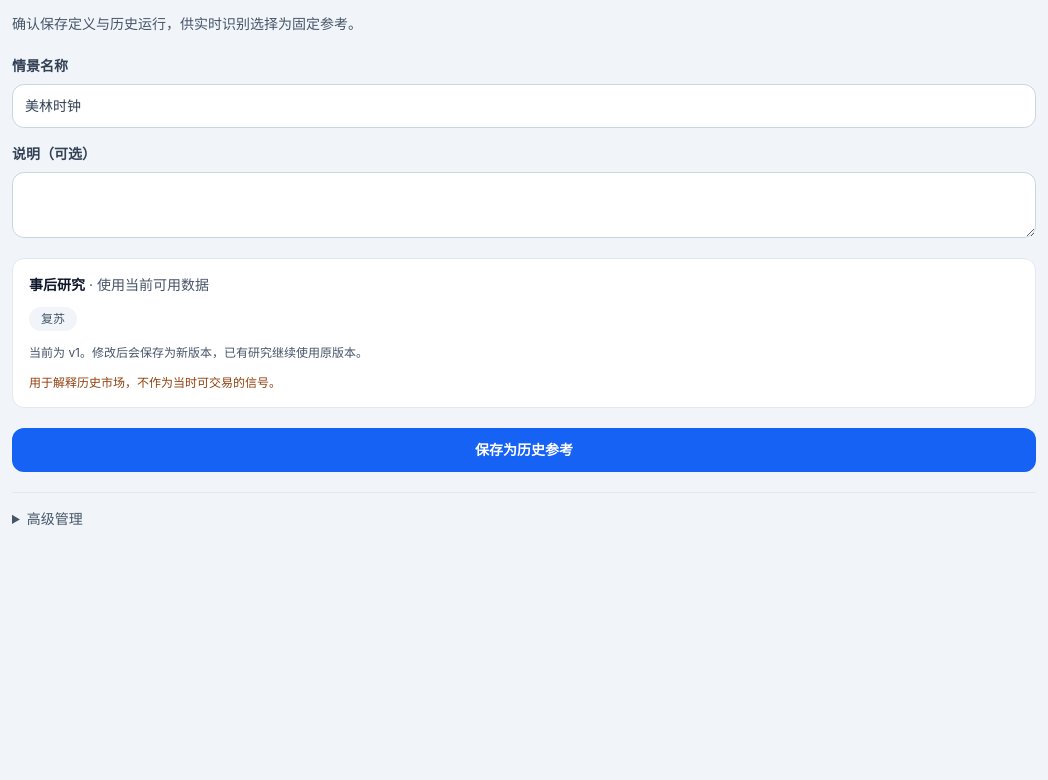
Test: 历史参考确认复用原研究发布路径，不另建存储
Click the button "保存为历史参考" at (524, 450), box [12,428,1036,472]
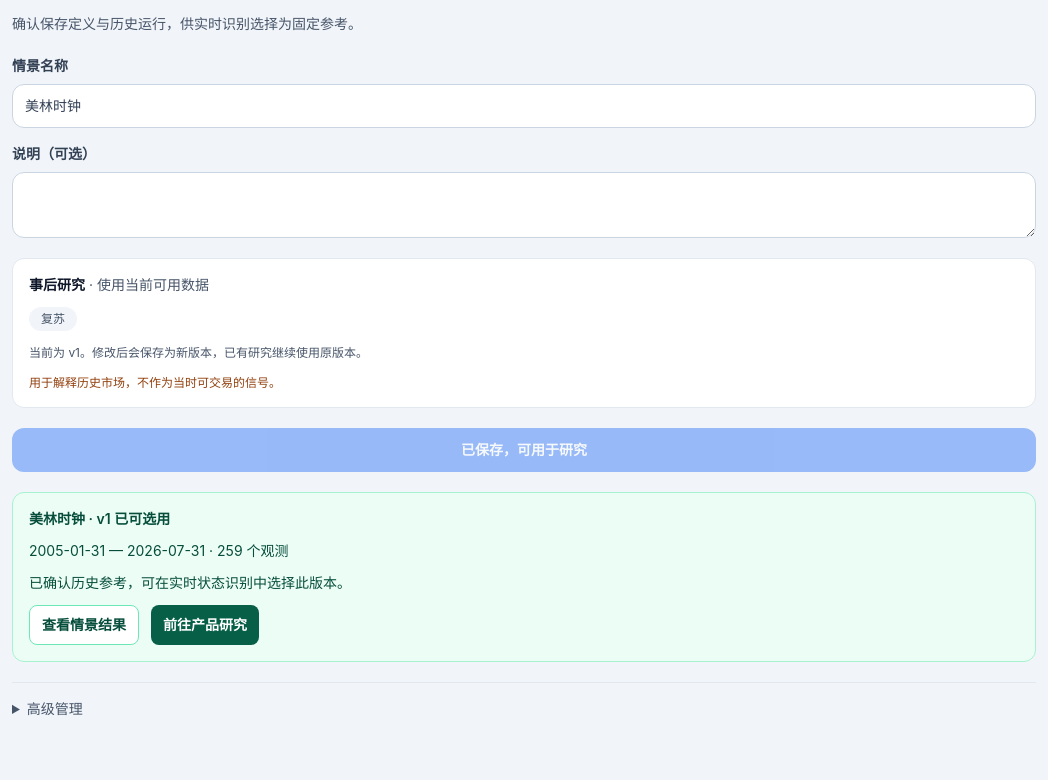
Check: the text "已确认历史参考，可在实时状态识别中选择此版本。" is shown, box [29,574,351,591]
